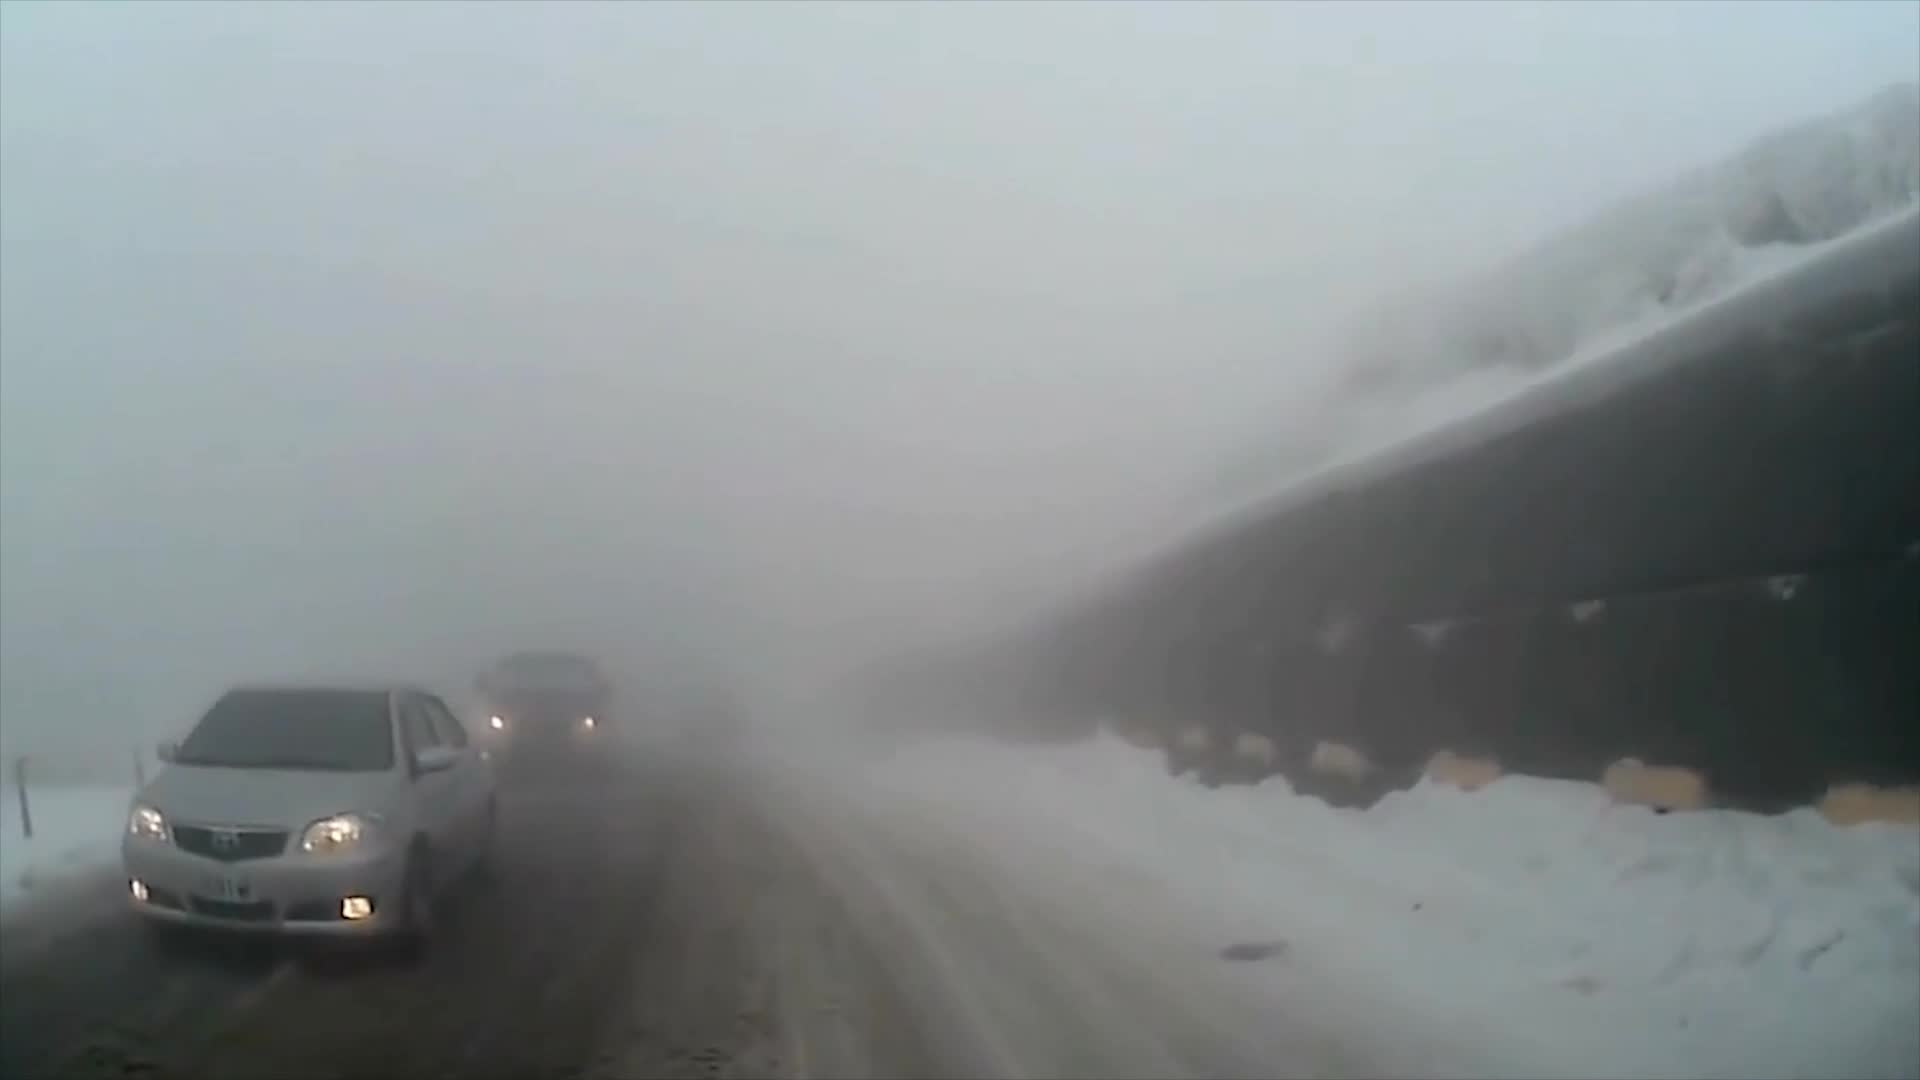vehicle: (117, 674, 506, 968), (472, 650, 615, 777)
